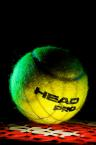tennis ball: (8, 46, 88, 124)
